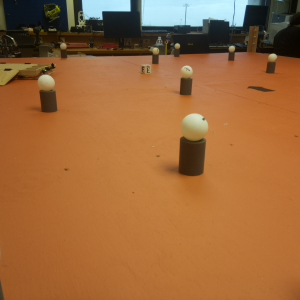obstacle: (177, 114, 211, 178), (37, 75, 60, 114), (178, 66, 194, 99), (267, 53, 278, 74), (151, 47, 161, 66), (61, 44, 69, 61), (228, 46, 235, 61), (174, 44, 182, 57)
side: (22, 66, 58, 80)
slope: (1, 68, 21, 90)
